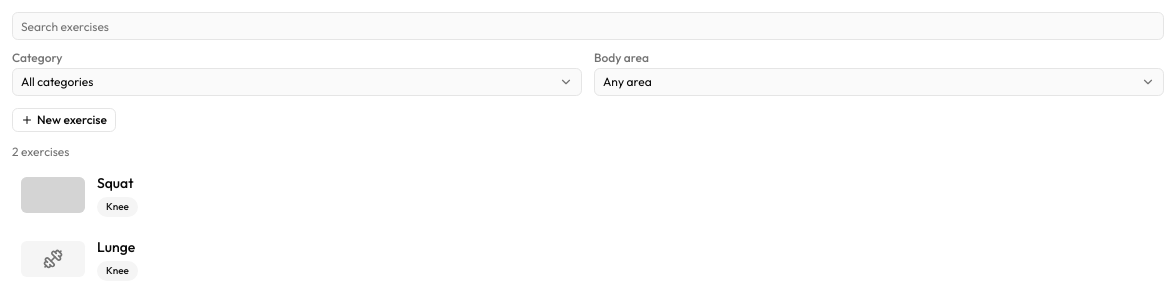
it: ExercisePicker › filters by category, including subcategories
Click the dropdown named "Category" at (57, 82), box [12, 68, 582, 96]
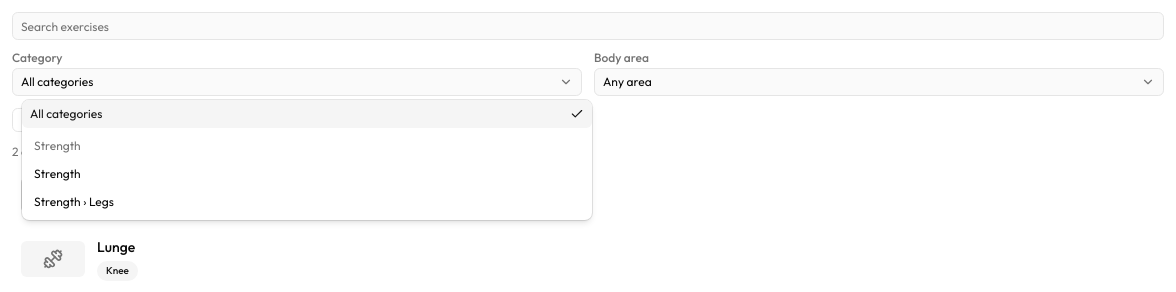
Click the option "Strength › Legs" at (74, 202), box [34, 194, 114, 209]
Wait 250 ms
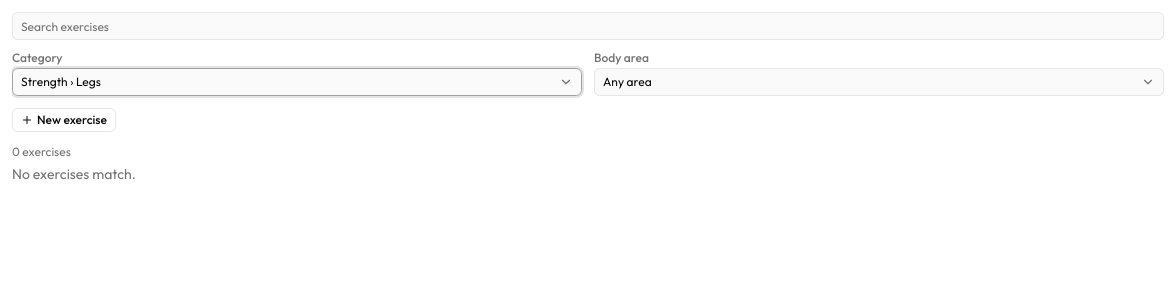
Result: the text "No exercises match." is shown at [12, 164, 136, 184]
